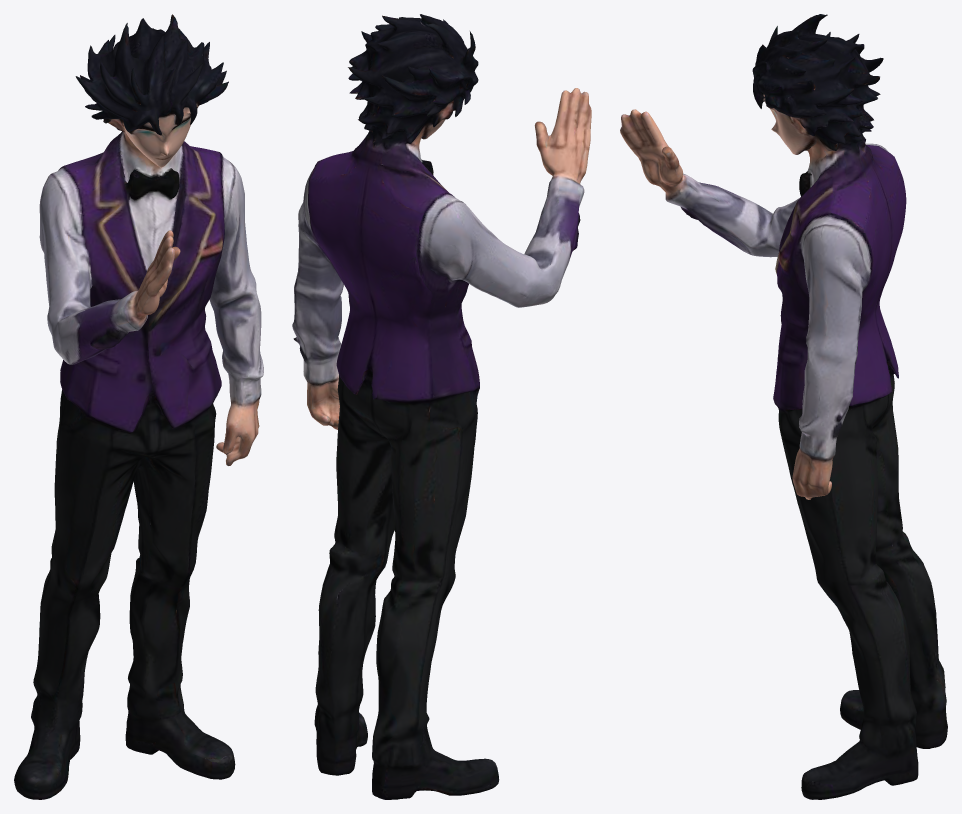
File: lar_croupier.glb
3 renders of one model, left to right at view 1: azimuth 30°, elevation 25°; view 2: azimuth 150°, elevation 25°; view 3: azimuth 270°, elevation 25°, orthographic. The views are drawn at different scales.
Bounding box in the file's own units: 0.3109 × 0.97 × 0.3891.
Materials: 1 (1 with a texture image).
